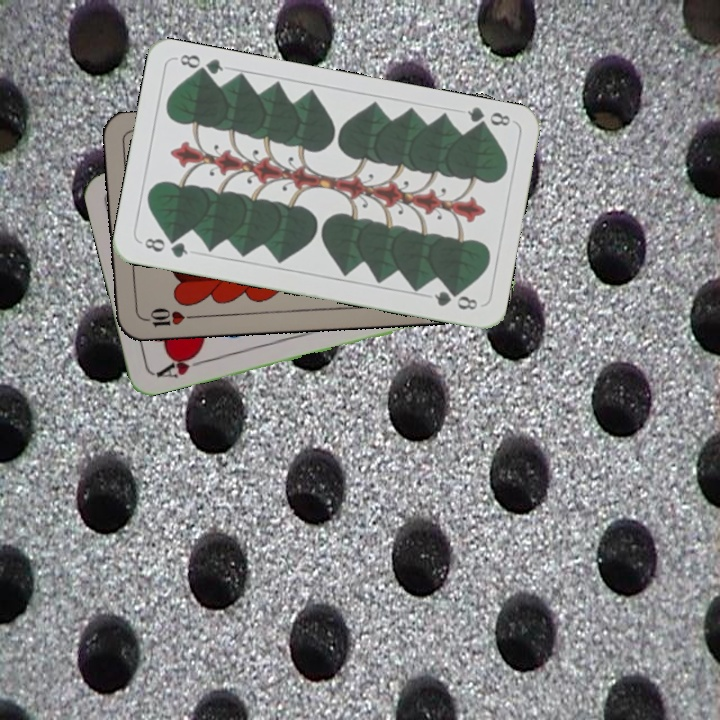G8: (463, 103, 513, 133), (137, 234, 190, 261)
H10: (138, 304, 197, 330)
HA: (152, 348, 211, 381)
